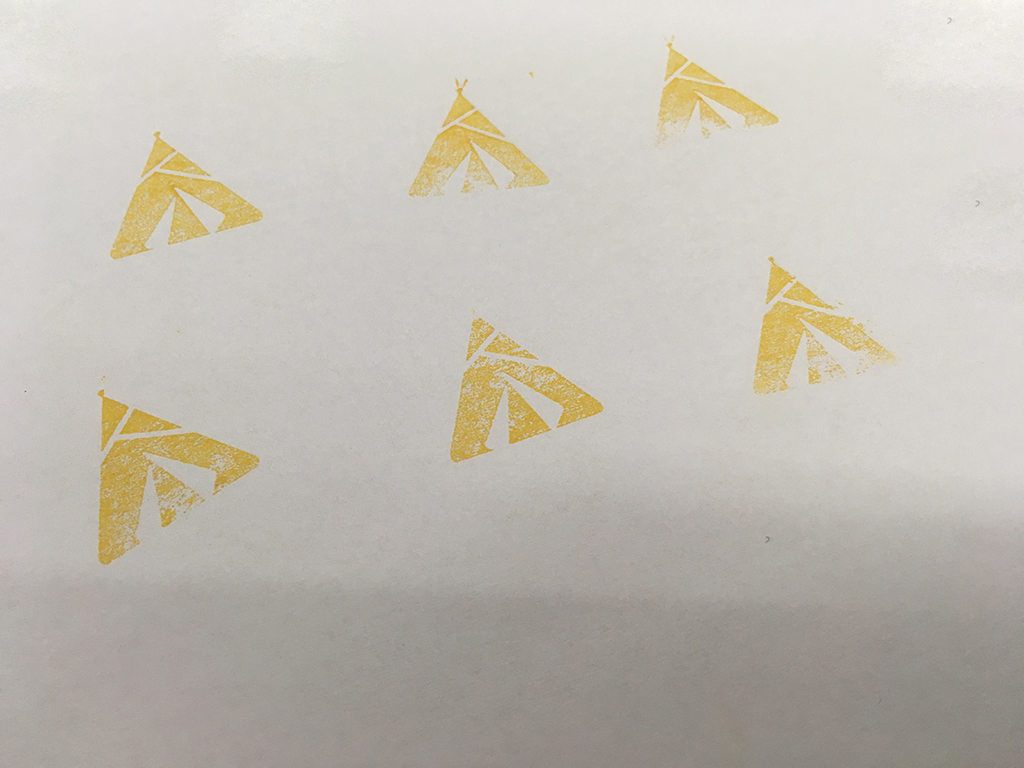tent: (77, 377, 264, 575), (436, 289, 608, 466), (96, 118, 276, 270), (742, 246, 909, 404), (406, 74, 562, 209), (649, 30, 784, 170)
